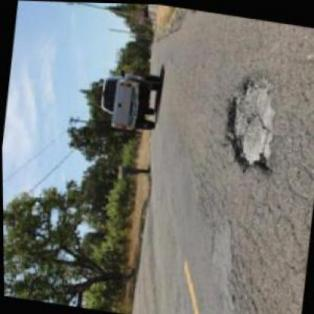Hueco: (216, 67, 284, 175)
